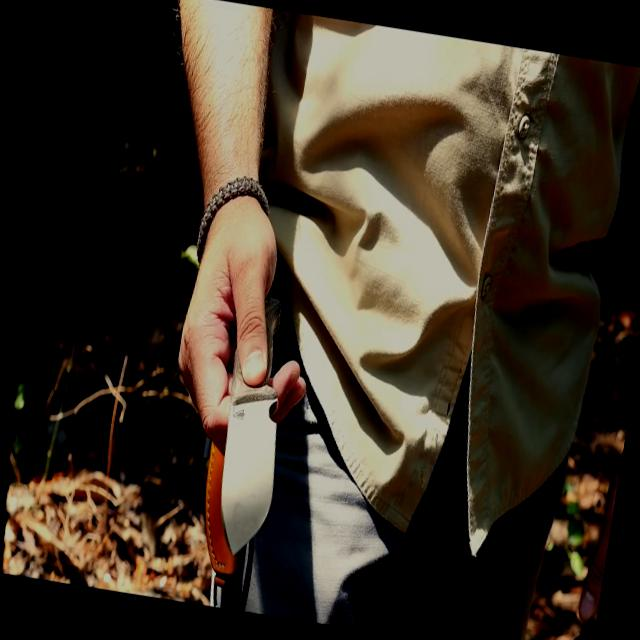knife: (162, 299, 318, 578)
